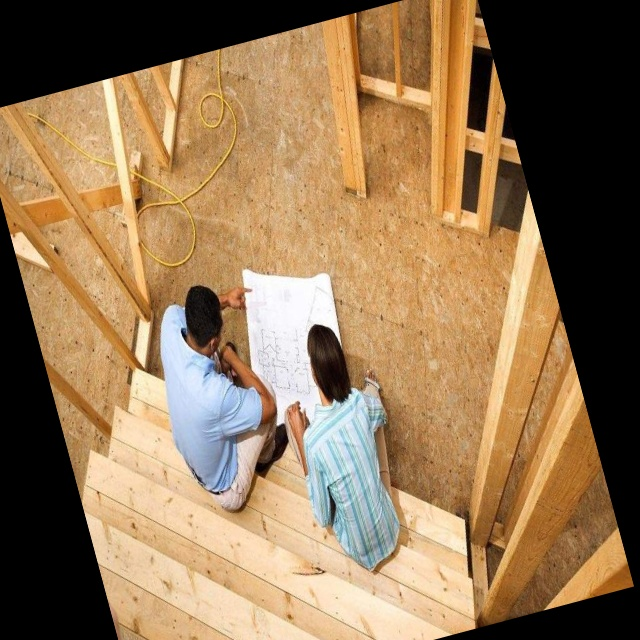Sin_Casco_Mascarrilla: (293, 322, 357, 407), (175, 278, 233, 354)
